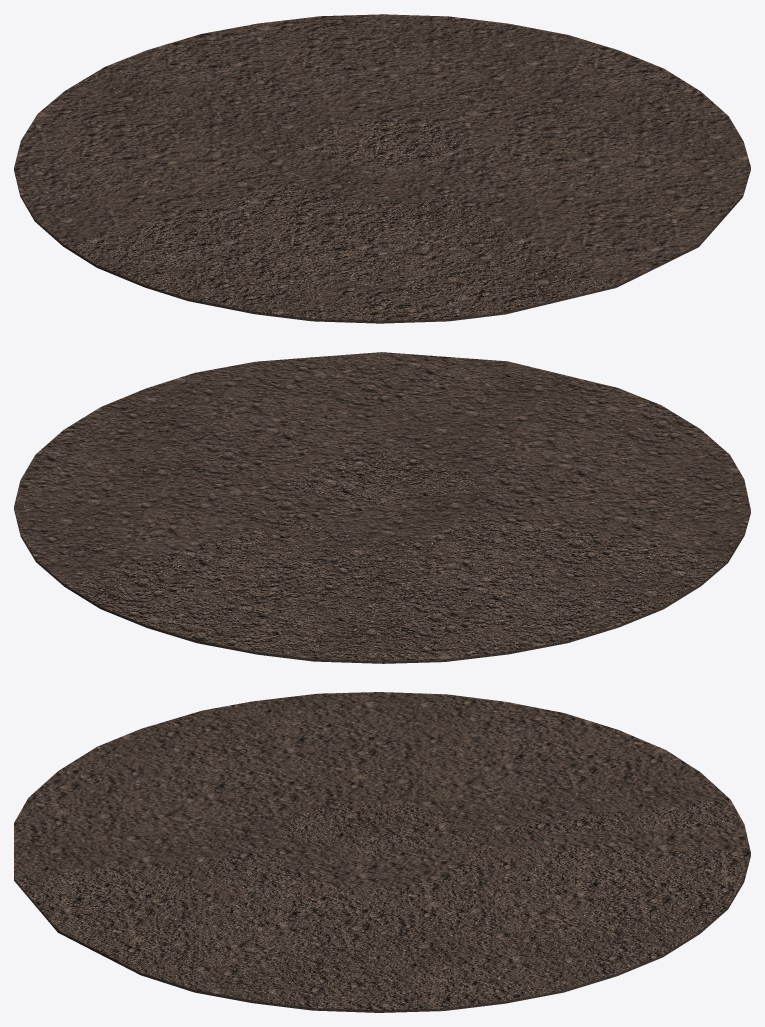
Rendered from Soil.fbx.
3 views of the same model, one above another, from view 1: azimuth 30°, elevation 25°; view 2: azimuth 150°, elevation 25°; view 3: azimuth 270°, elevation 25° (orthographic).
Visible parts, largest first — view 1: pCylinder1; view 2: pCylinder1; view 3: pCylinder1.
Boxes of the visible parts, bbox=[...] form: pCylinder1: bbox=[14, 14, 750, 323]; pCylinder1: bbox=[14, 352, 750, 663]; pCylinder1: bbox=[14, 692, 750, 1012].
Bounding box in the file's own units: 457 × 7.82 × 450.
Materials: 1 (1 with a texture image).
